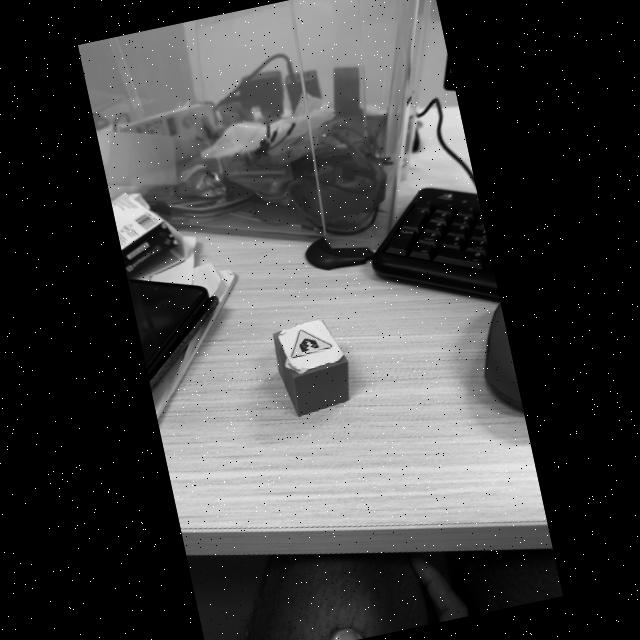Earthquake: (292, 330, 331, 357)
